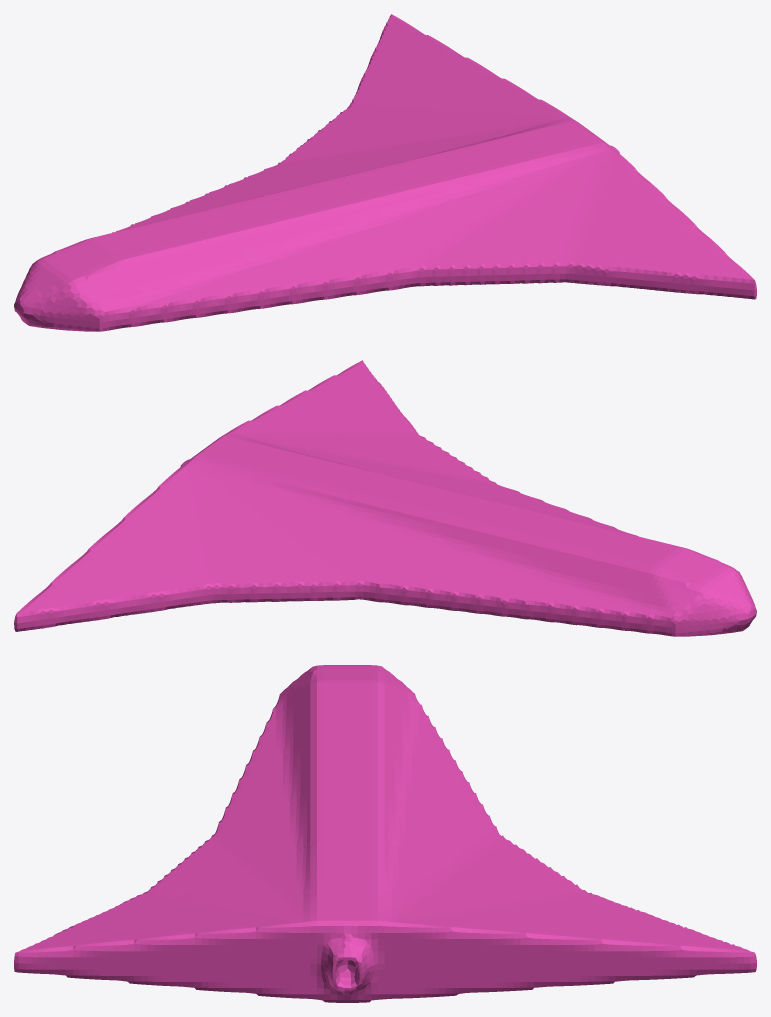
Rendered from Starship Basic 2.fbx.
3 views of the same model, one above another, from view 1: azimuth 30°, elevation 25°; view 2: azimuth 150°, elevation 25°; view 3: azimuth 270°, elevation 25° (orthographic). The views are drawn at different scales.
Visible parts, largest first — view 1: Cube; view 2: Cube; view 3: Cube.
Boxes of the visible parts, box(x1,y1,x2,y2) form: Cube: box(14, 14, 756, 331); Cube: box(14, 360, 756, 636); Cube: box(14, 665, 756, 1002).
Size of the model in its own units: 1036 by 132 by 1096.
